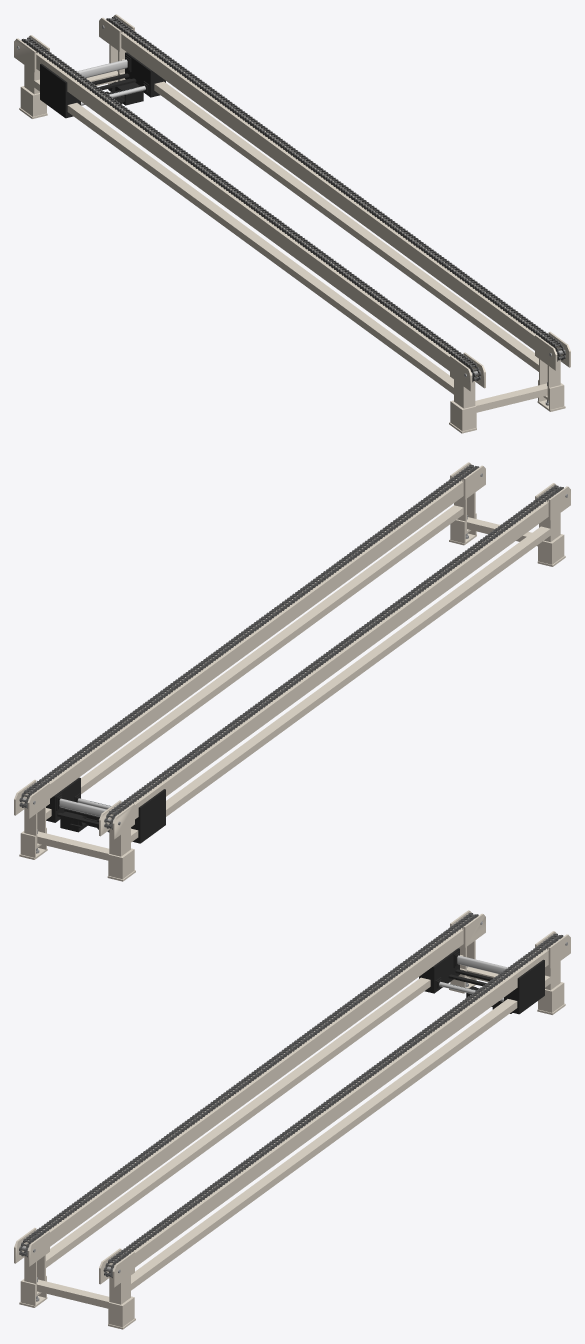
The model's file is chain-extra-long.glb.
3 views of the same model, one above another, from view 1: azimuth 30°, elevation 25°; view 2: azimuth 150°, elevation 25°; view 3: azimuth 330°, elevation 25° (orthographic).
Visible parts, largest first — view 1: chain-extra-long__三链机体008, chain-extra-long__链条008, chain-extra-long__电机008; view 2: chain-extra-long__三链机体008, chain-extra-long__链条008, chain-extra-long__电机008; view 3: chain-extra-long__三链机体008, chain-extra-long__链条008, chain-extra-long__电机008.
Boxes of the visible parts, <box> form: chain-extra-long__三链机体008: <box>14,14,570,433</box>; chain-extra-long__链条008: <box>21,17,565,382</box>; chain-extra-long__电机008: <box>40,52,165,118</box>; chain-extra-long__三链机体008: <box>14,462,570,881</box>; chain-extra-long__链条008: <box>19,464,563,829</box>; chain-extra-long__电机008: <box>46,777,165,843</box>; chain-extra-long__三链机体008: <box>14,910,570,1329</box>; chain-extra-long__链条008: <box>19,913,563,1278</box>; chain-extra-long__电机008: <box>419,948,544,1014</box>.
Size of the model in its own units: 1.47 by 0.9256 by 11.22.
